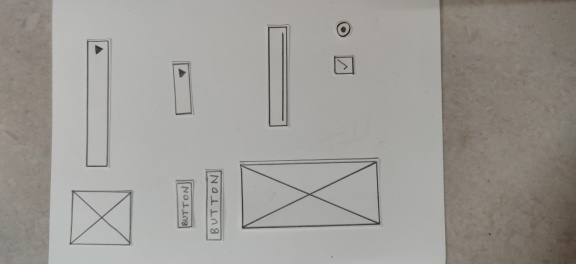button: (204, 169, 224, 241), (171, 180, 189, 229)
checkbox: (333, 57, 356, 76)
dropdown: (85, 36, 107, 167), (172, 61, 196, 115)
img: (239, 157, 382, 231), (68, 188, 135, 251)
radio: (333, 20, 353, 40)
text: (267, 23, 289, 127)
